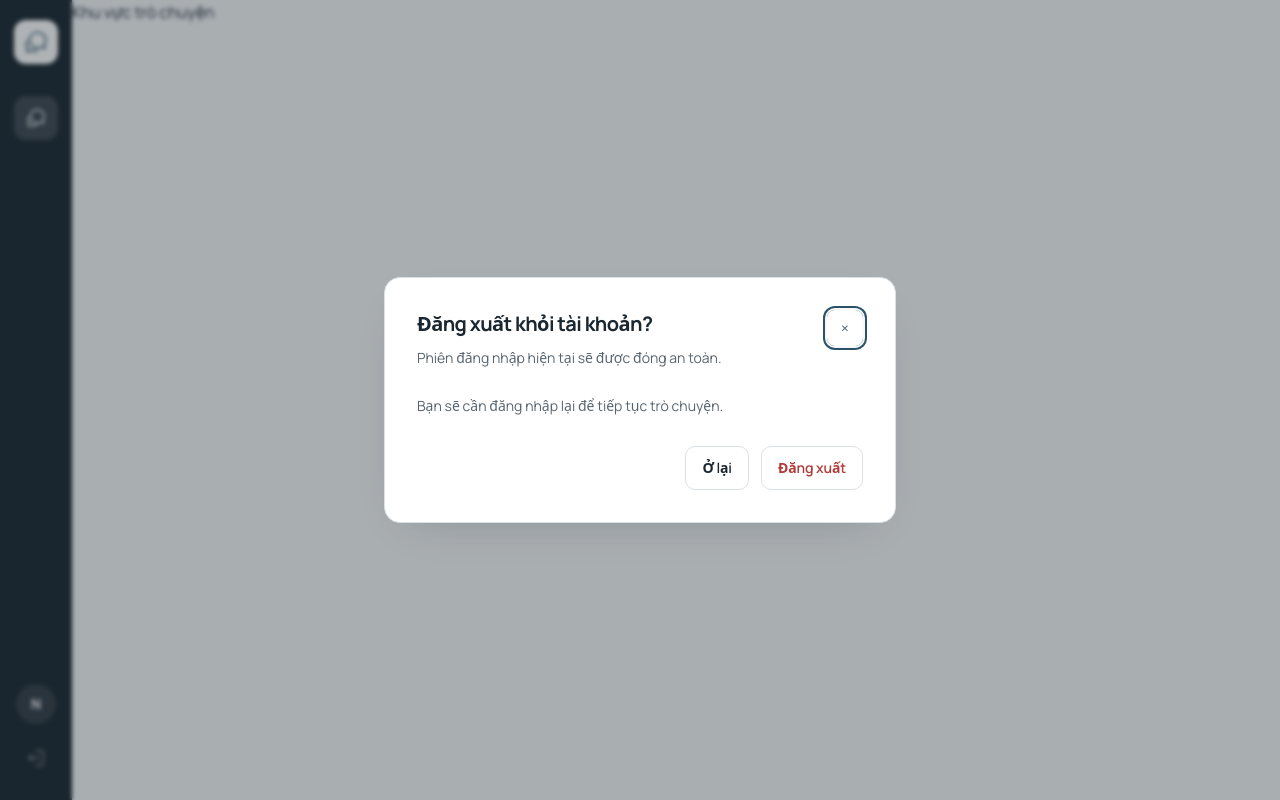
revokes the refresh token and clears the authenticated session on logout
Earlier steps of the test are not shown.
Step 1. Click the button "Đăng xuất" → (812, 468), box [761,446,863,490]
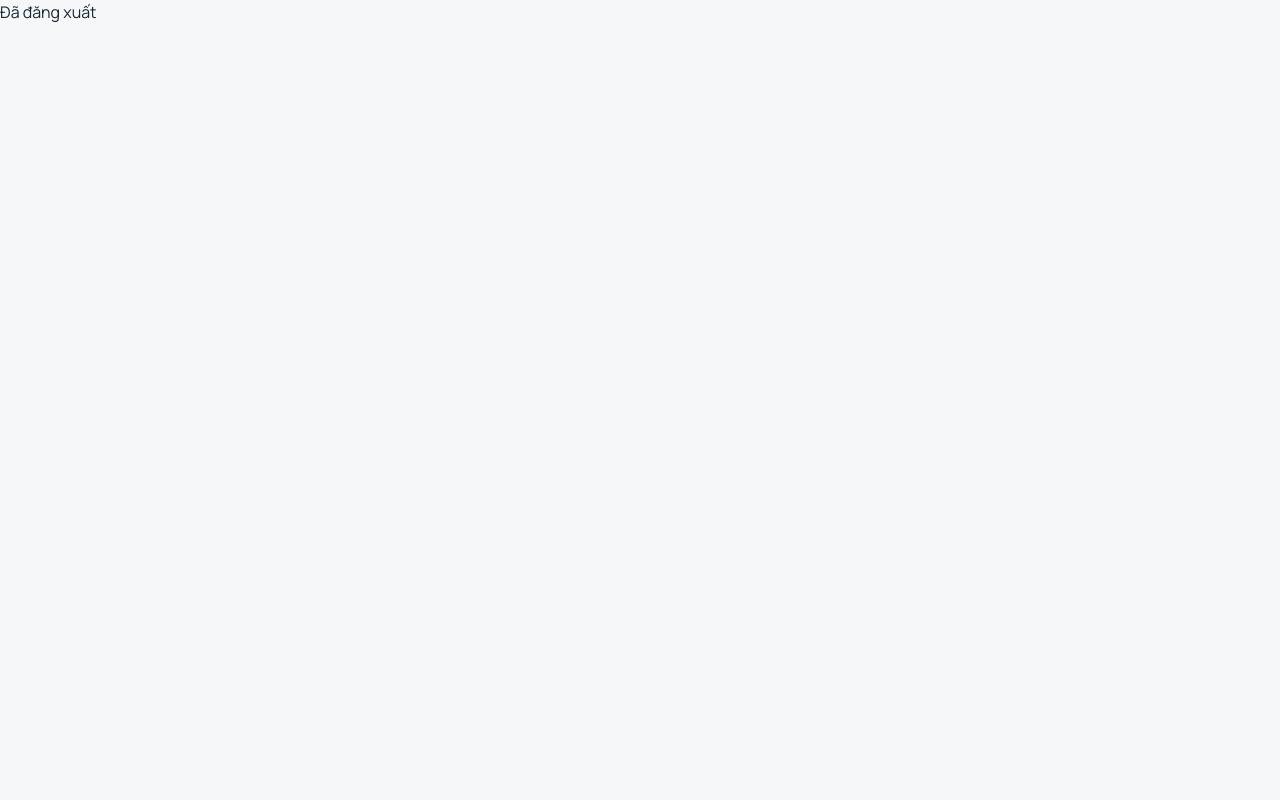
Now the text "Đã đăng xuất" is shown, box [0,1,96,23]
